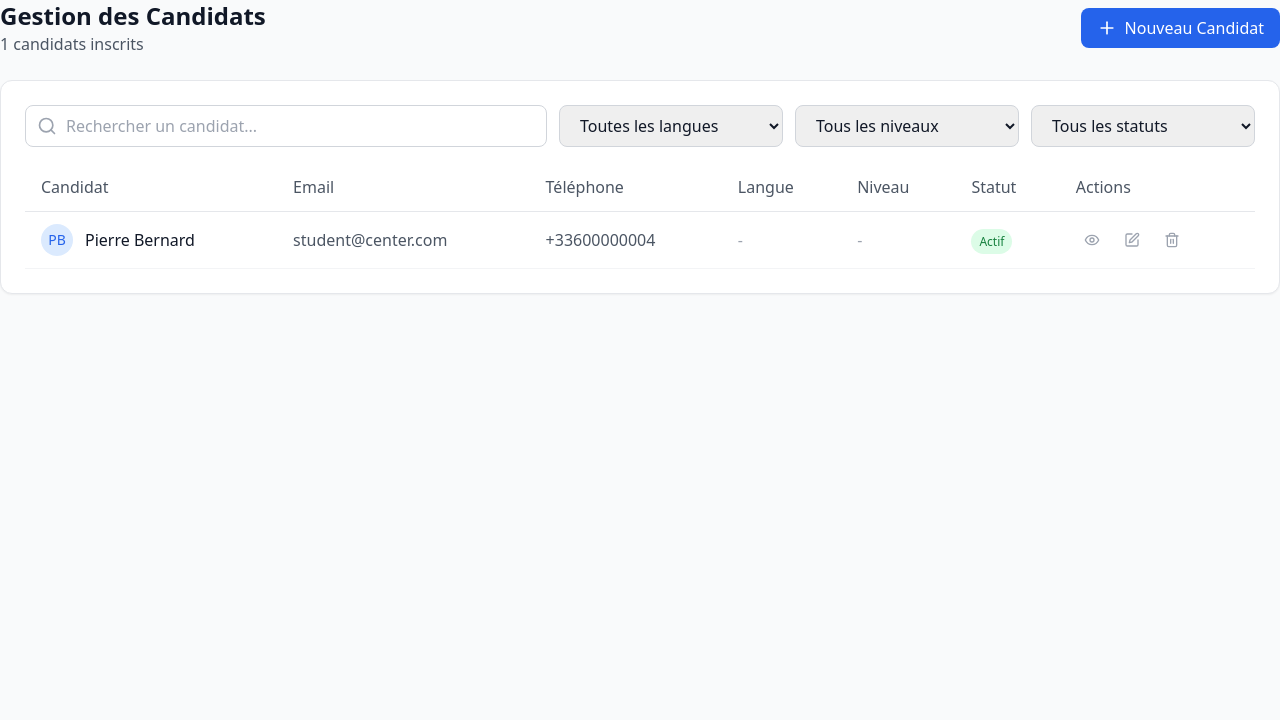
Test: Student payments › links each payment to its printable receipt
The image size is (1280, 720).
Click the button named "Voir Pierre Bernard": click(1092, 240) [1076,224,1108,256]
(page scrolled)
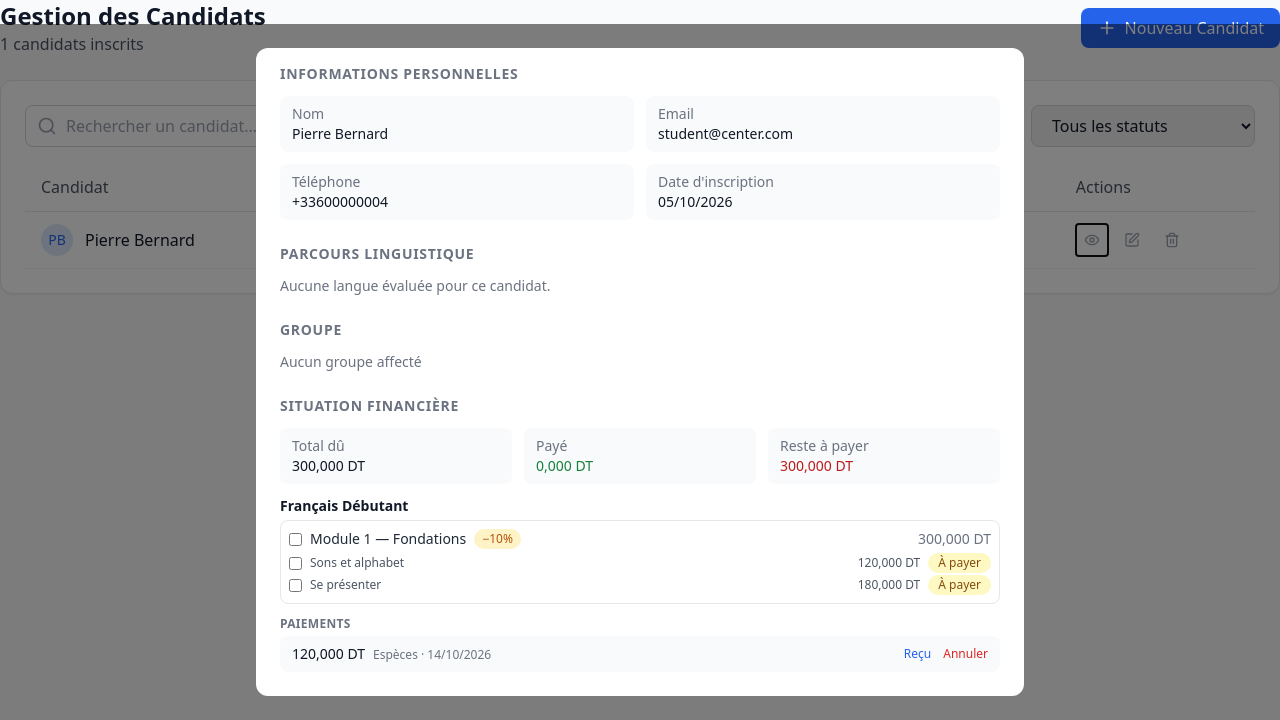
expect the text "Module 1 — Fondations" is shown: met, box [310,529,466,548]
